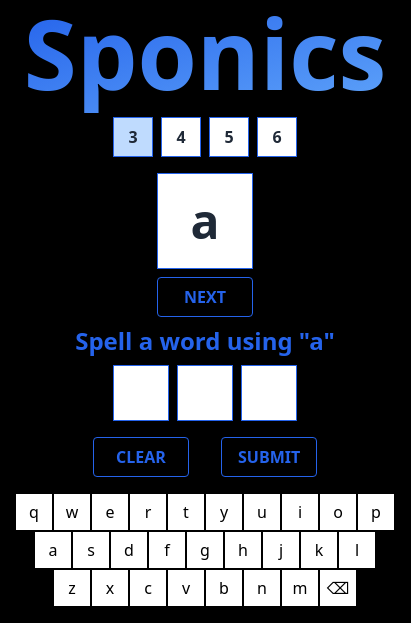
User opens web app to select word length › Shows 3 guess letter boxes when word length 3 is clicked
Click the button with test id "wordLength4": (181,137) [161, 117, 201, 157]
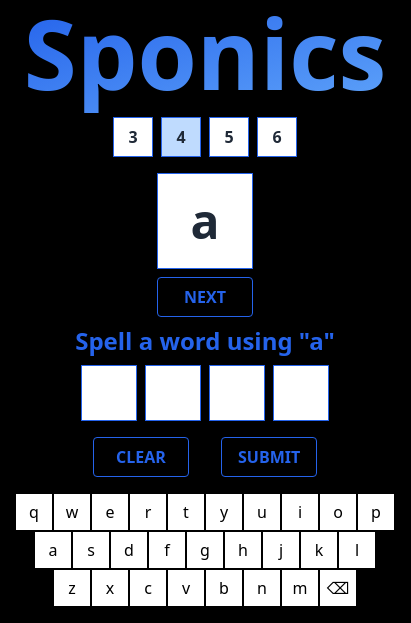
Click the button with test id "wordLength3": (133,137) [113, 117, 153, 157]
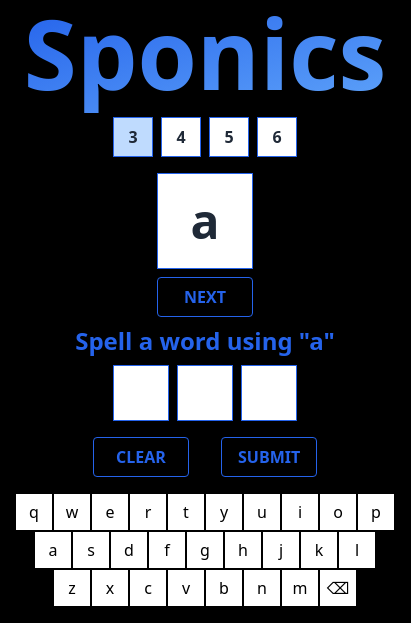
Expected: the element with test id "guessLetter1" is shown, [113, 365, 169, 421]
Expected: the element with test id "guessLetter4" is gone
